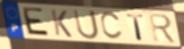C: (99, 11, 124, 41)
E: (22, 6, 52, 38)
K: (50, 9, 74, 39)
R: (147, 13, 179, 45)
T: (125, 13, 146, 42)
U: (72, 9, 101, 41)
